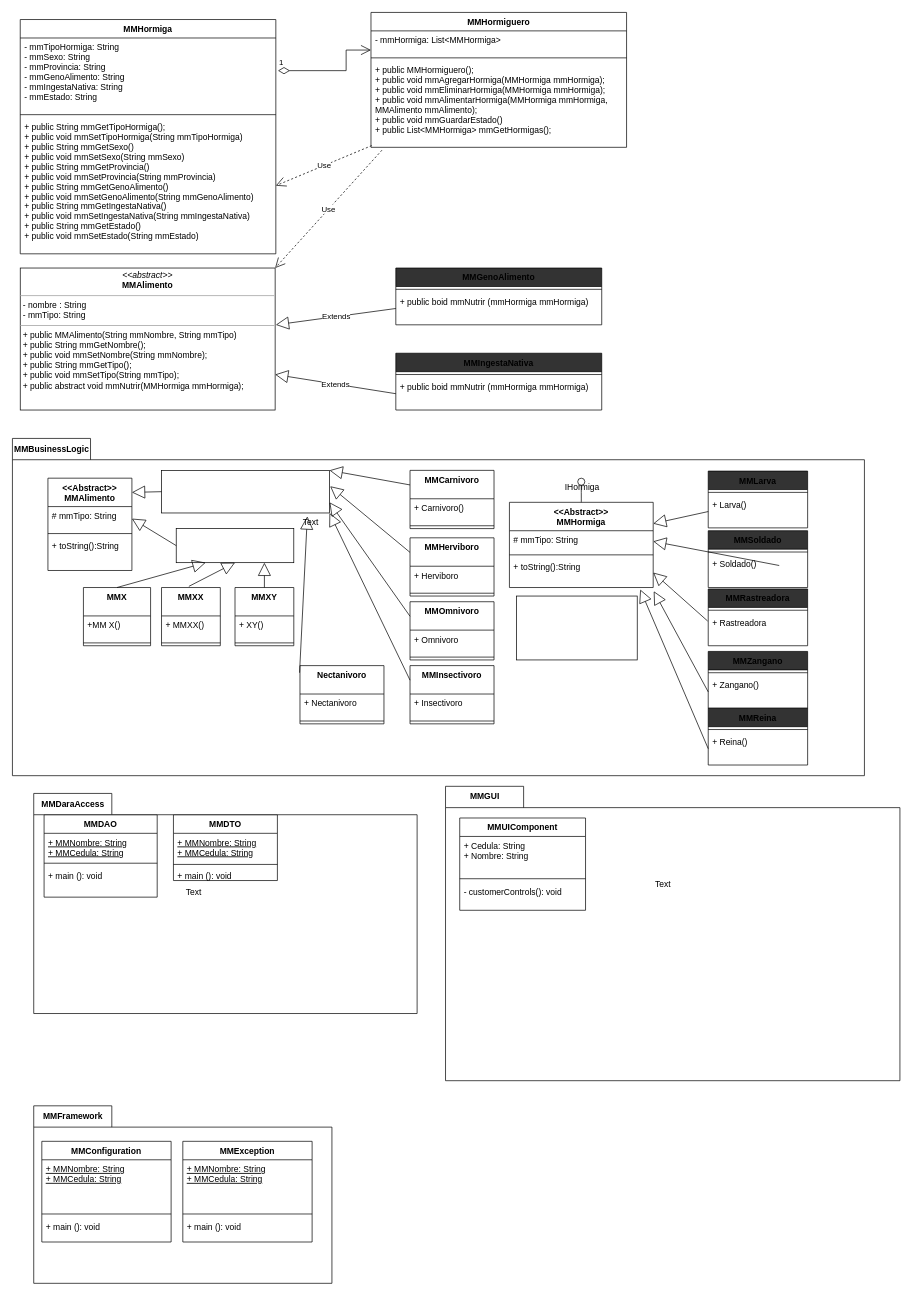
The diagram is 912 pixels wide and 1296 high, and some of its shapes have lost their labels. The centre of each missing label's shape, as x and y in pixels:
<<Abstract>> MMGenoAlimento: point (235, 545)
<<Abstract>> MMIngestaNativa: point (245, 491)
<<Interface>> MMIHormiga + comer(Alimento): boolean: point (576, 627)
